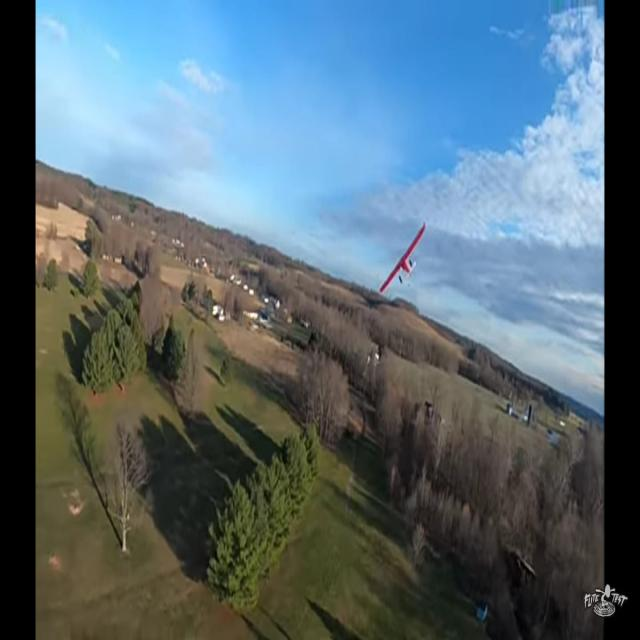iha: (378, 255, 426, 261)
